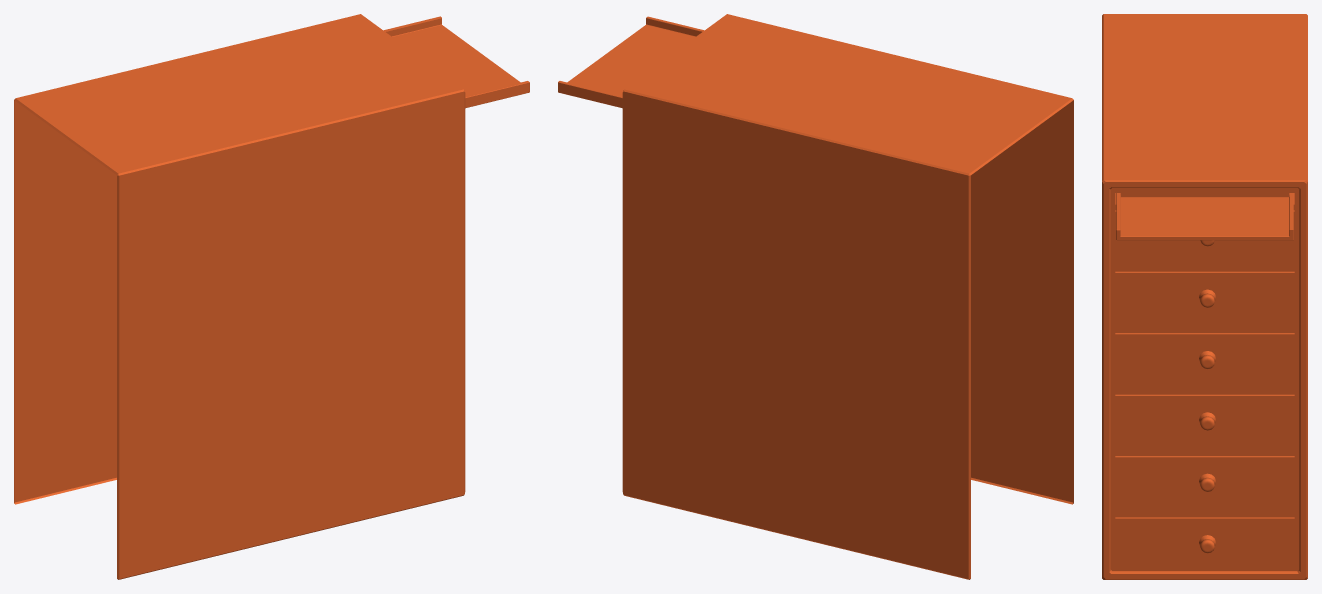
Rendered from G_Drawer_01.fbx.
3 renders of one model, left to right at view 1: azimuth 30°, elevation 25°; view 2: azimuth 150°, elevation 25°; view 3: azimuth 270°, elevation 25°, orthographic.
Parts seen in each view (by area): view 1: drawer; view 2: drawer; view 3: drawer.
Boxes of the visible parts, x1,y1,x2,y2 form: drawer: (14, 14, 529, 579); drawer: (558, 14, 1073, 579); drawer: (1102, 14, 1307, 579).
Bounding box in the file's own units: 1232 × 1141 × 532.
